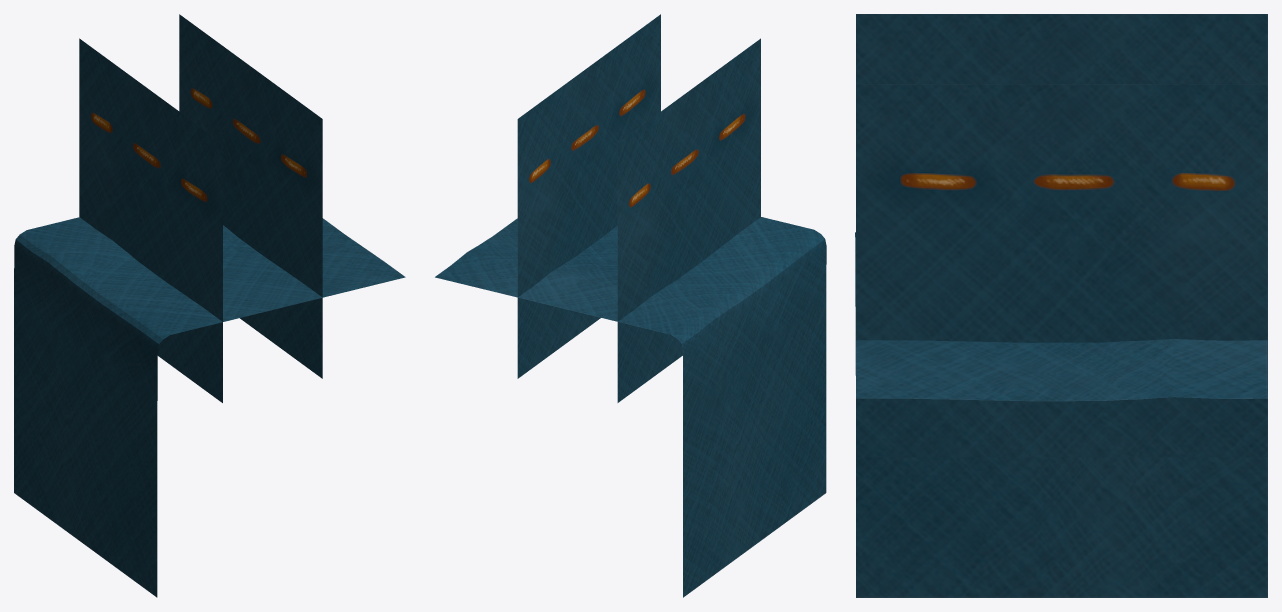
File: tl_spikes.FBX
The picture shows the model from 3 angles, left to right: view 1: azimuth 30°, elevation 25°; view 2: azimuth 150°, elevation 25°; view 3: azimuth 270°, elevation 25°; orthographic projection. The views are drawn at different scales.
Visible parts, largest first — view 1: tl_mid0, Plane001, Plane002; view 2: tl_mid0, Plane001, Plane002; view 3: Plane002, tl_mid0, Plane001.
Boxes of the visible parts, x1,y1,x2,y2 form: tl_mid0: (14,217,405,597); Plane001: (79,38,222,402); Plane002: (179,14,322,378); tl_mid0: (435,217,826,597); Plane001: (617,38,760,402); Plane002: (517,14,660,378); Plane002: (856,84,1267,457); tl_mid0: (855,232,1267,597); Plane001: (856,14,1267,83).
Size of the model in its own units: 100 by 169 by 100.
